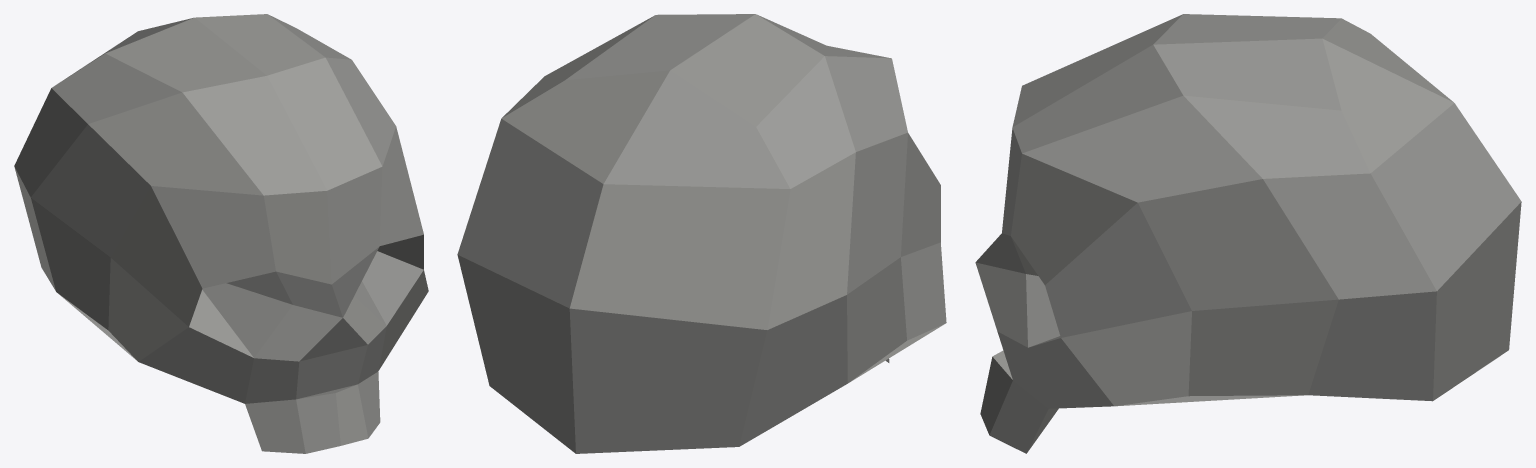
The model's file is YN_Skull4.fbx.
The picture shows the model from 3 angles, left to right: view 1: azimuth 30°, elevation 25°; view 2: azimuth 150°, elevation 25°; view 3: azimuth 270°, elevation 25°; orthographic projection. The views are drawn at different scales.
Parts seen in each view (by area): view 1: YN_Skull4; view 2: YN_Skull4; view 3: YN_Skull4.
Boxes of the visible parts, x1,y1,x2,y2 form: YN_Skull4: [14, 14, 428, 453]; YN_Skull4: [457, 14, 946, 453]; YN_Skull4: [975, 14, 1521, 453].
Bounding box in the file's own units: 0.6568 × 0.6537 × 0.8478.
